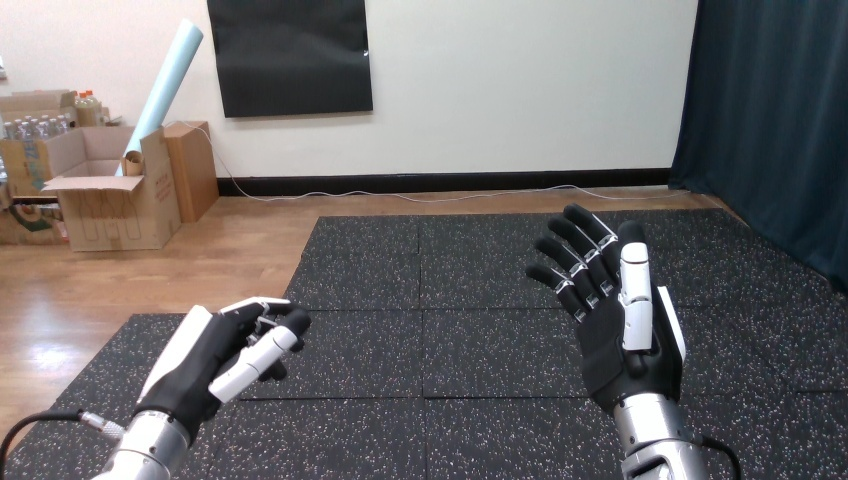left robot hand: (526, 204, 739, 479)
